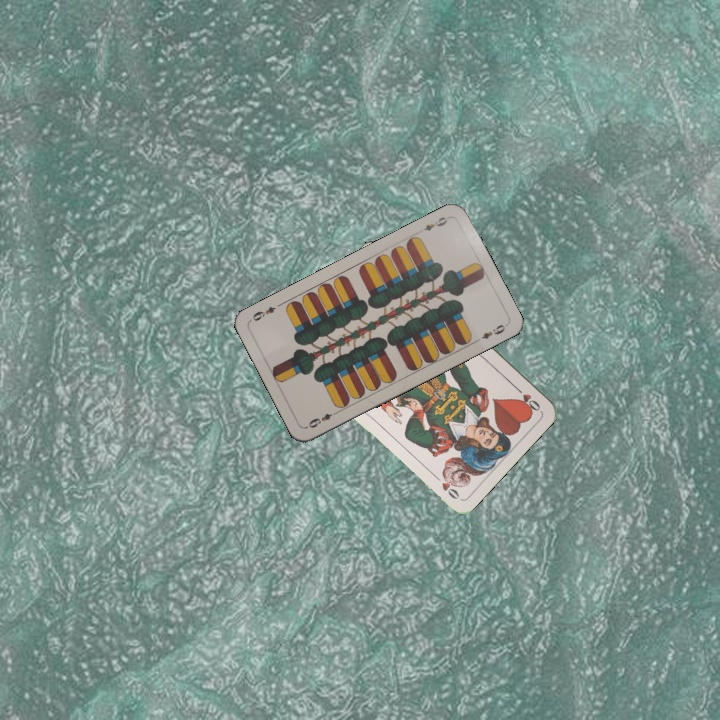E9: (414, 212, 452, 236), (304, 407, 341, 431)
HO: (510, 382, 543, 413)
